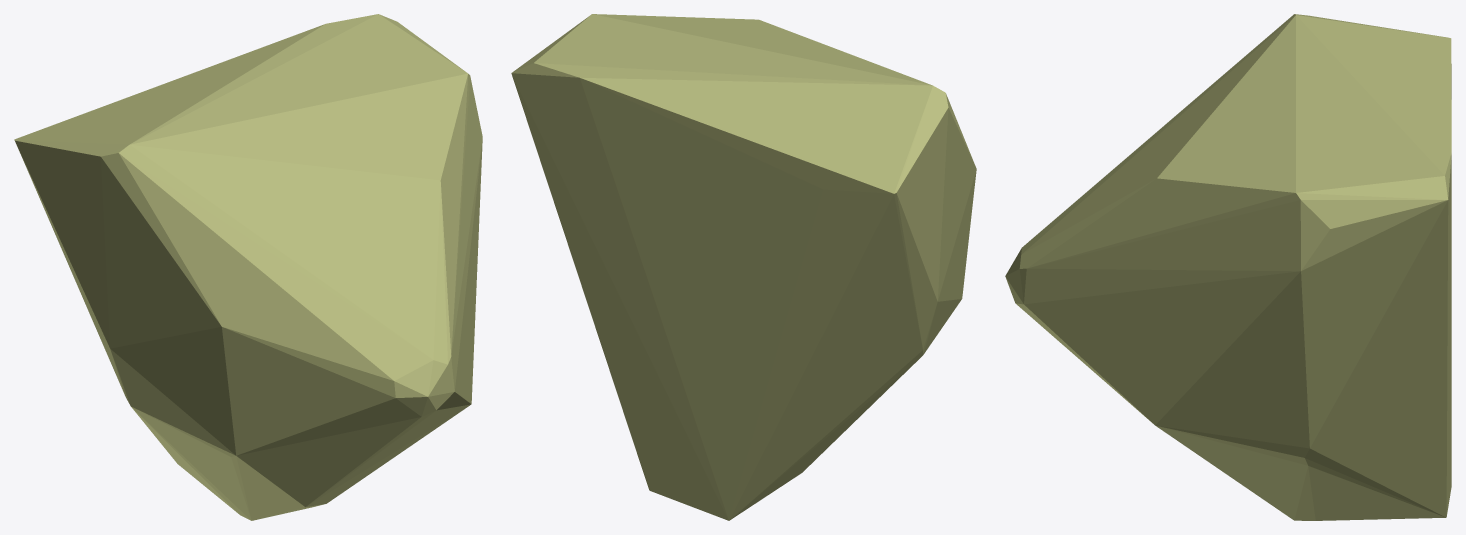
Rendered from engineComponent_engine_mount_b01.glb.
The picture shows the model from 3 angles, left to right: view 1: azimuth 30°, elevation 25°; view 2: azimuth 150°, elevation 25°; view 3: azimuth 270°, elevation 25°; orthographic projection.
Visible parts, largest first — view 1: geometry_0; view 2: geometry_0; view 3: geometry_0.
Boxes of the visible parts, <box> form: geometry_0: <box>14,14,482,520</box>; geometry_0: <box>511,14,976,520</box>; geometry_0: <box>1005,14,1451,520</box>.
Size of the model in its own units: 0.4782 by 0.4742 by 0.4649.
